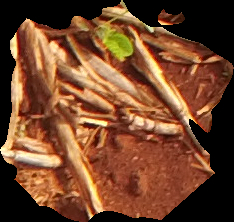soil: (1, 1, 232, 221)
